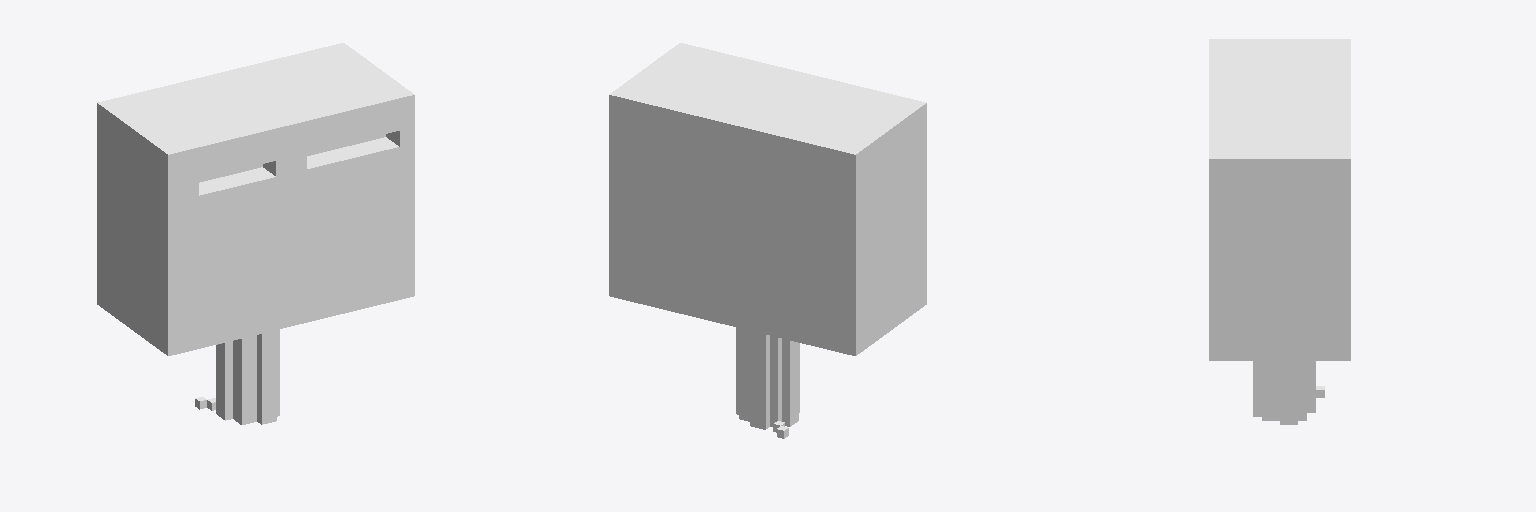
Rendered from post.obj.
The picture shows the model from 3 angles: view 1: azimuth 30°, elevation 25°; view 2: azimuth 150°, elevation 25°; view 3: azimuth 270°, elevation 25°; orthographic projection.
Parts seen in each view (by area): view 1: object 1; view 2: object 1; view 3: object 1.
Part boxes in pixels (bbox=[...]): object 1: bbox=[97, 43, 414, 424]; object 1: bbox=[609, 43, 926, 438]; object 1: bbox=[1209, 39, 1350, 424].
Size of the model in its own units: 3.2 by 3.9 by 1.6.